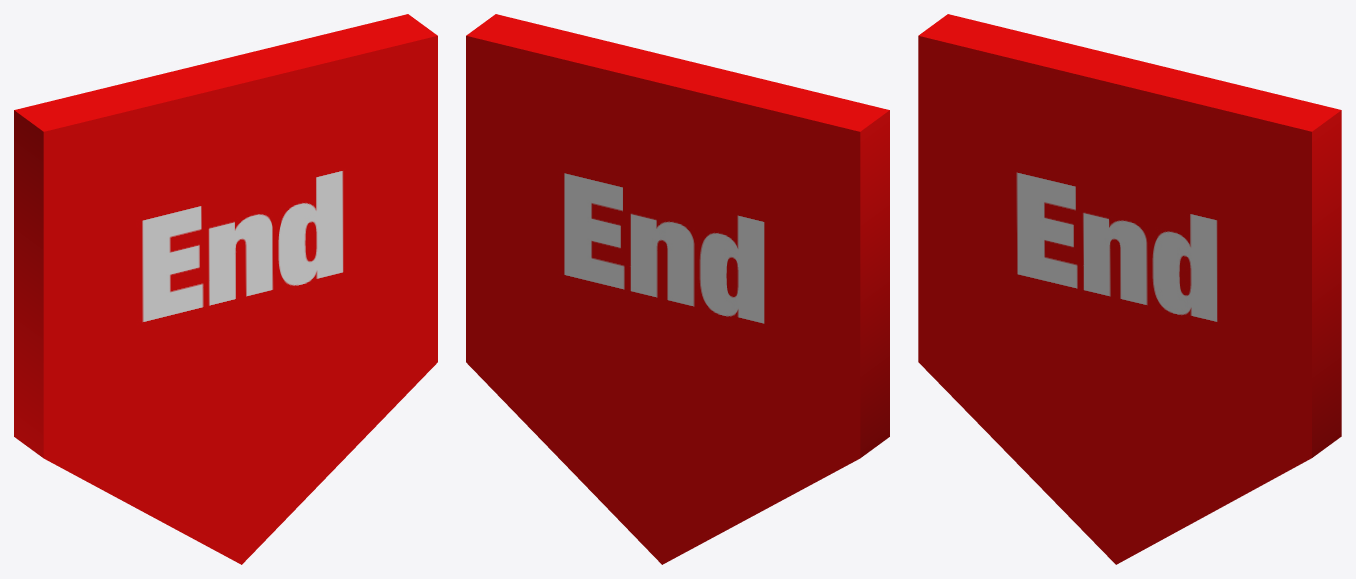
The model's file is end marker.fbx.
3 views of the same model, side by side, from view 1: azimuth 30°, elevation 25°; view 2: azimuth 150°, elevation 25°; view 3: azimuth 330°, elevation 25° (orthographic).
Visible parts, largest first — view 1: pCube1; view 2: pCube1; view 3: pCube1.
Boxes of the visible parts, bbox=[...] form: pCube1: bbox=[14, 14, 437, 564]; pCube1: bbox=[466, 14, 889, 564]; pCube1: bbox=[918, 14, 1341, 564].
Size of the model in its own units: 3.96 by 4.62 by 0.5166.
1 material, 1 textured.
